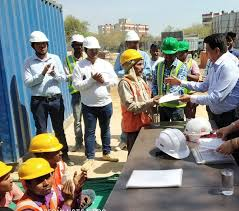arm: (178, 69, 238, 109), (118, 77, 161, 114), (206, 108, 239, 155), (153, 57, 167, 96)
face: (29, 171, 54, 195), (42, 145, 63, 167), (0, 169, 15, 192), (203, 42, 220, 59), (32, 38, 49, 54), (131, 57, 144, 73), (84, 45, 100, 58), (70, 40, 84, 54), (162, 52, 176, 62), (126, 38, 138, 48)
footwear: (100, 145, 119, 160), (117, 130, 129, 149), (83, 148, 95, 158)
glove: (56, 162, 83, 199), (214, 135, 238, 155), (117, 129, 129, 149), (71, 101, 82, 116), (178, 91, 191, 102), (149, 93, 161, 104), (178, 76, 190, 87)
helmet: (15, 153, 55, 192), (27, 128, 63, 158), (0, 155, 15, 191), (118, 46, 145, 65), (28, 28, 50, 50), (159, 34, 182, 54), (82, 34, 101, 49), (123, 28, 141, 42), (69, 32, 85, 45)
human: (180, 31, 238, 200), (24, 30, 76, 154), (68, 34, 116, 160), (113, 44, 157, 159), (8, 150, 69, 209), (151, 33, 190, 122)
leg: (81, 106, 98, 158), (98, 107, 114, 158)
noglove: (73, 168, 87, 187)
nogoggle: (33, 175, 53, 184), (0, 173, 14, 183), (203, 46, 216, 54), (34, 41, 48, 47), (132, 59, 144, 66), (162, 53, 175, 58)
nohelmet: (201, 34, 222, 55), (223, 30, 238, 48), (69, 32, 86, 47)
novest: (205, 53, 239, 110), (71, 60, 109, 106), (27, 53, 58, 98)
vest: (117, 73, 152, 128), (154, 57, 185, 96), (12, 191, 61, 209), (0, 173, 21, 206)
